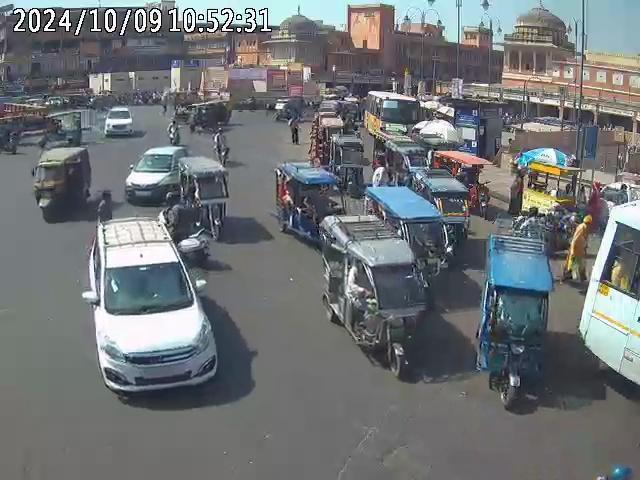auto: (317, 214, 434, 375), (472, 234, 554, 409), (362, 184, 442, 283), (273, 158, 346, 244), (177, 156, 233, 242), (32, 145, 93, 220), (432, 148, 494, 218), (415, 166, 468, 244), (385, 137, 428, 193), (330, 132, 366, 198), (37, 109, 84, 148), (190, 100, 218, 132), (271, 95, 305, 121)
bicycle-rider: (211, 127, 230, 166)
bus: (574, 199, 640, 390), (364, 90, 422, 139)
car: (81, 211, 220, 401), (122, 146, 190, 206), (103, 106, 134, 138)
helmet: (164, 190, 180, 205)
motorbike-rider: (165, 118, 181, 145)
person: (565, 212, 592, 285), (95, 189, 113, 225), (371, 158, 386, 187), (288, 113, 302, 144)
scooty-rider: (158, 192, 212, 270)
